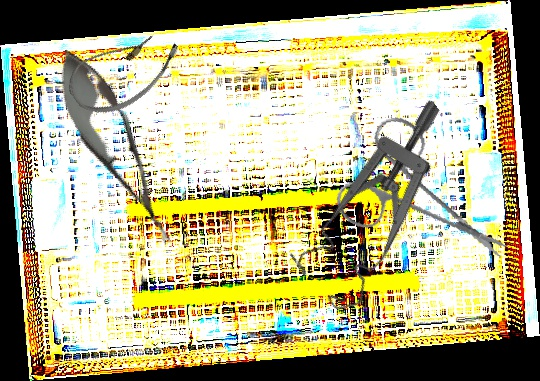Cannula: (59, 10, 189, 130)
Iris Scissors: (321, 99, 510, 290)
Micro Scissor: (38, 38, 193, 257)
Speculum: (263, 98, 504, 321)
